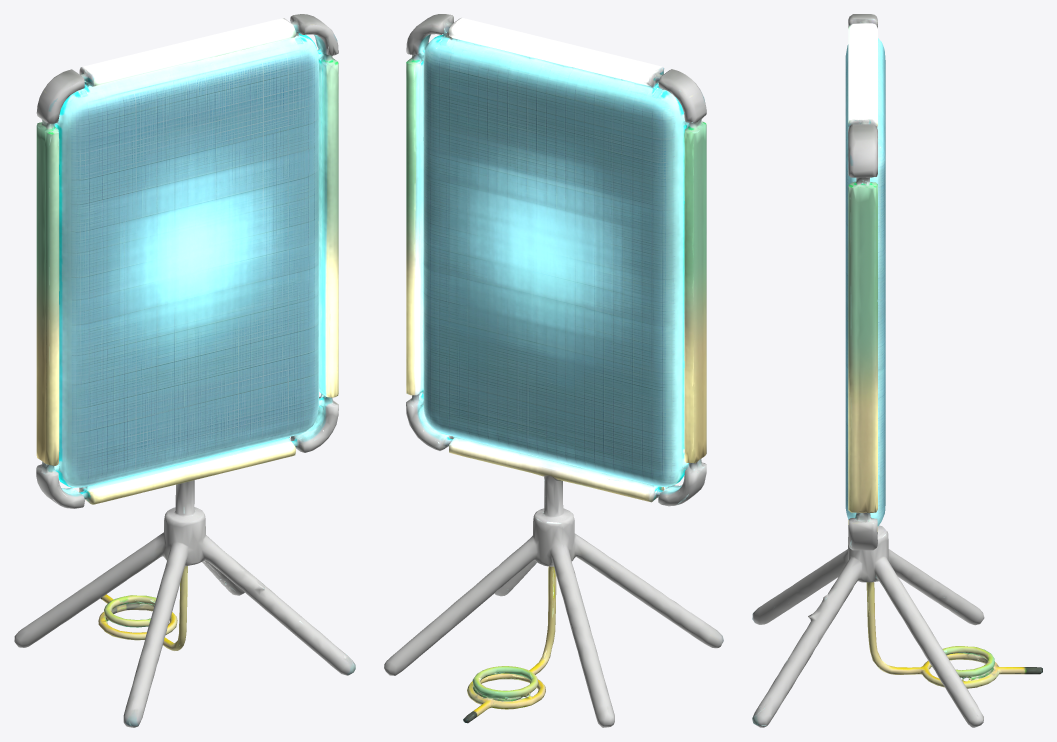
Rendered from hologram_screen.glb.
The picture shows the model from 3 angles, left to right: view 1: azimuth 30°, elevation 25°; view 2: azimuth 150°, elevation 25°; view 3: azimuth 270°, elevation 25°; orthographic projection. The views are drawn at different scales.
Parts seen in each view (by area): view 1: Mesh_0; view 2: Mesh_0; view 3: Mesh_0.
Boxes of the visible parts, bbox=[...] form: Mesh_0: bbox=[14, 14, 355, 727]; Mesh_0: bbox=[384, 14, 723, 727]; Mesh_0: bbox=[752, 14, 1042, 727].
Bounding box in the file's own units: 0.9484 × 1.91 × 0.8338.
1 material, 1 textured.
